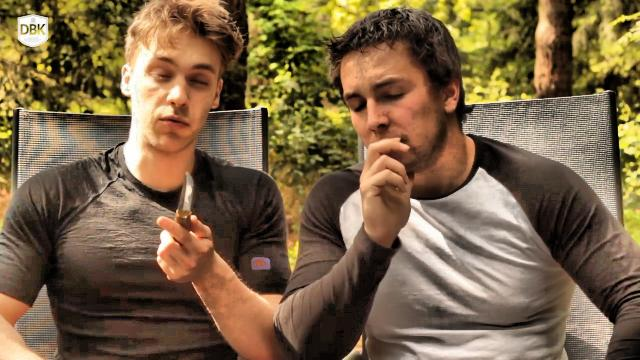knife: (148, 163, 216, 283)
